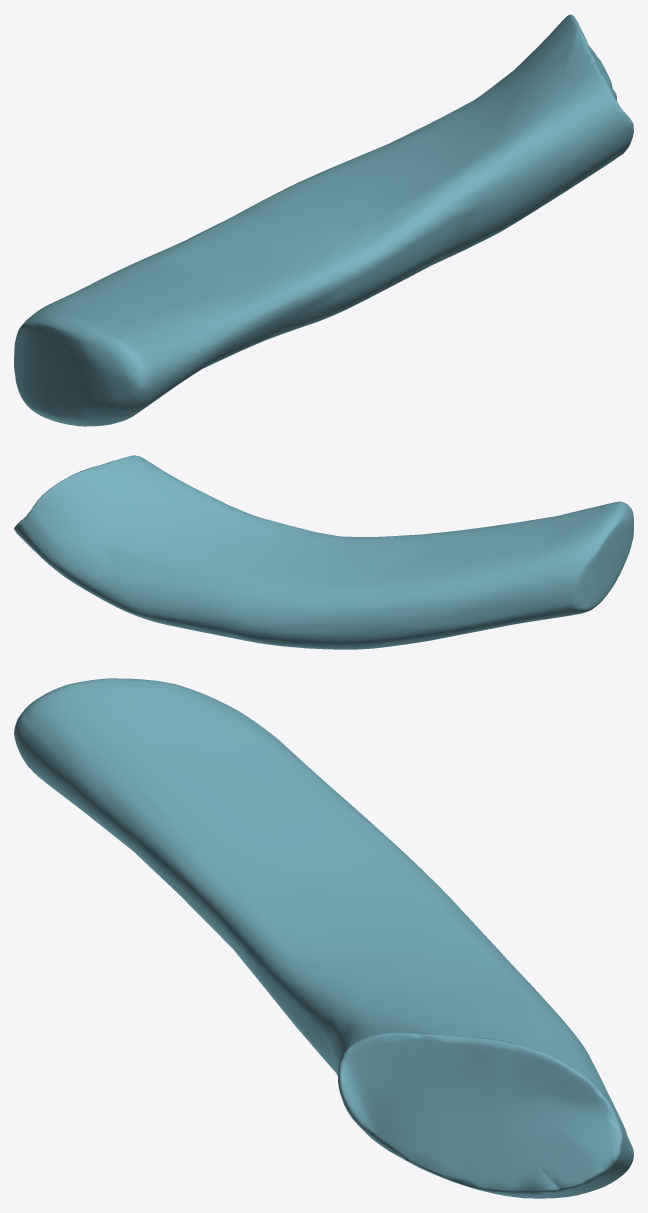
3 renders of one model, top to bottom at view 1: azimuth 30°, elevation 25°; view 2: azimuth 150°, elevation 25°; view 3: azimuth 270°, elevation 25°, orthographic. The views are drawn at different scales.
Visible parts, largest first — view 1: 左侧第五肋软骨; view 2: 左侧第五肋软骨; view 3: 左侧第五肋软骨.
Part boxes in pixels (x1,y1,x2,y2): 左侧第五肋软骨: (14, 14, 633, 426); 左侧第五肋软骨: (14, 455, 633, 649); 左侧第五肋软骨: (14, 678, 633, 1198).
Bounding box in the file's own units: 0.0967 × 0.0241 × 0.058.
